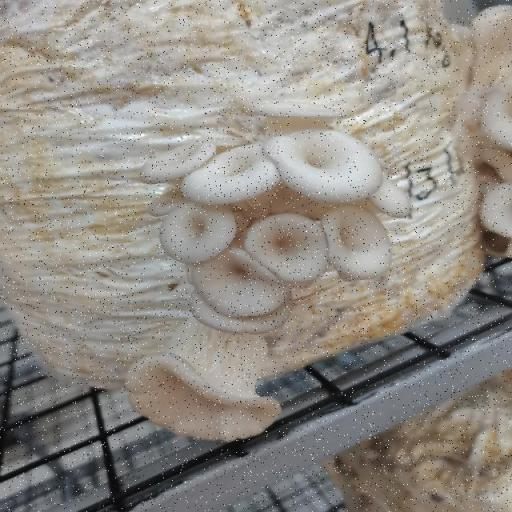White Oyster Mushroom: (114, 101, 414, 440)
